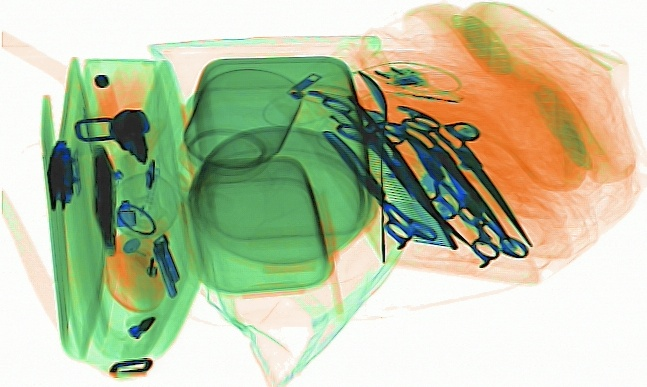scissors: (388, 101, 527, 241)
